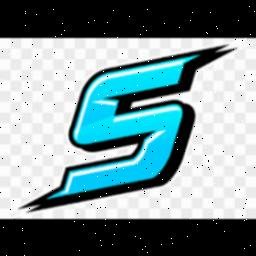s: (50, 51, 204, 197)
